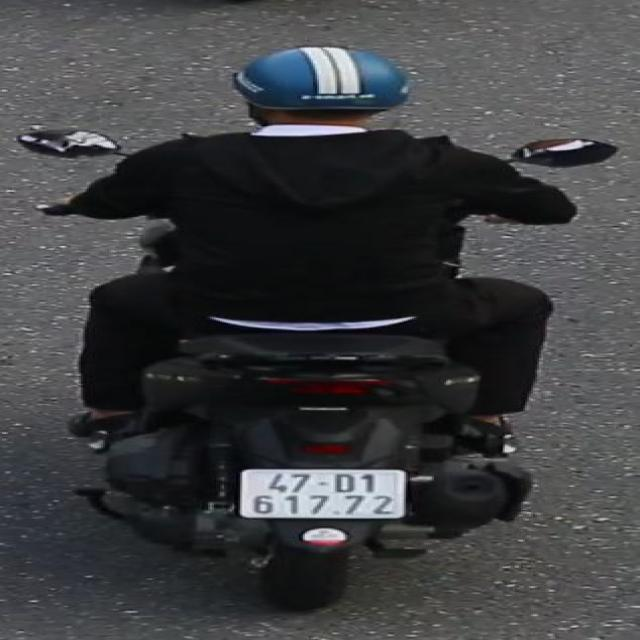LP: (234, 463, 414, 524)
helmet: (233, 40, 417, 142)
